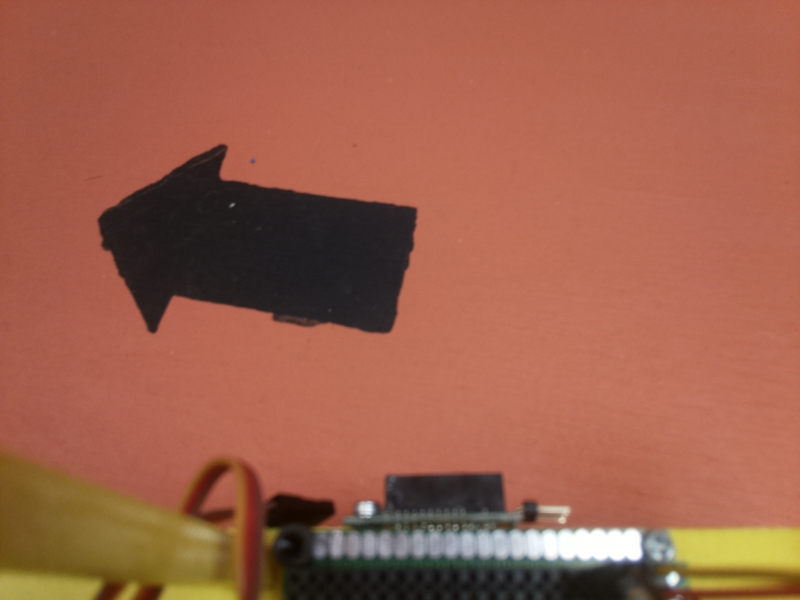start: (86, 142, 418, 364)
